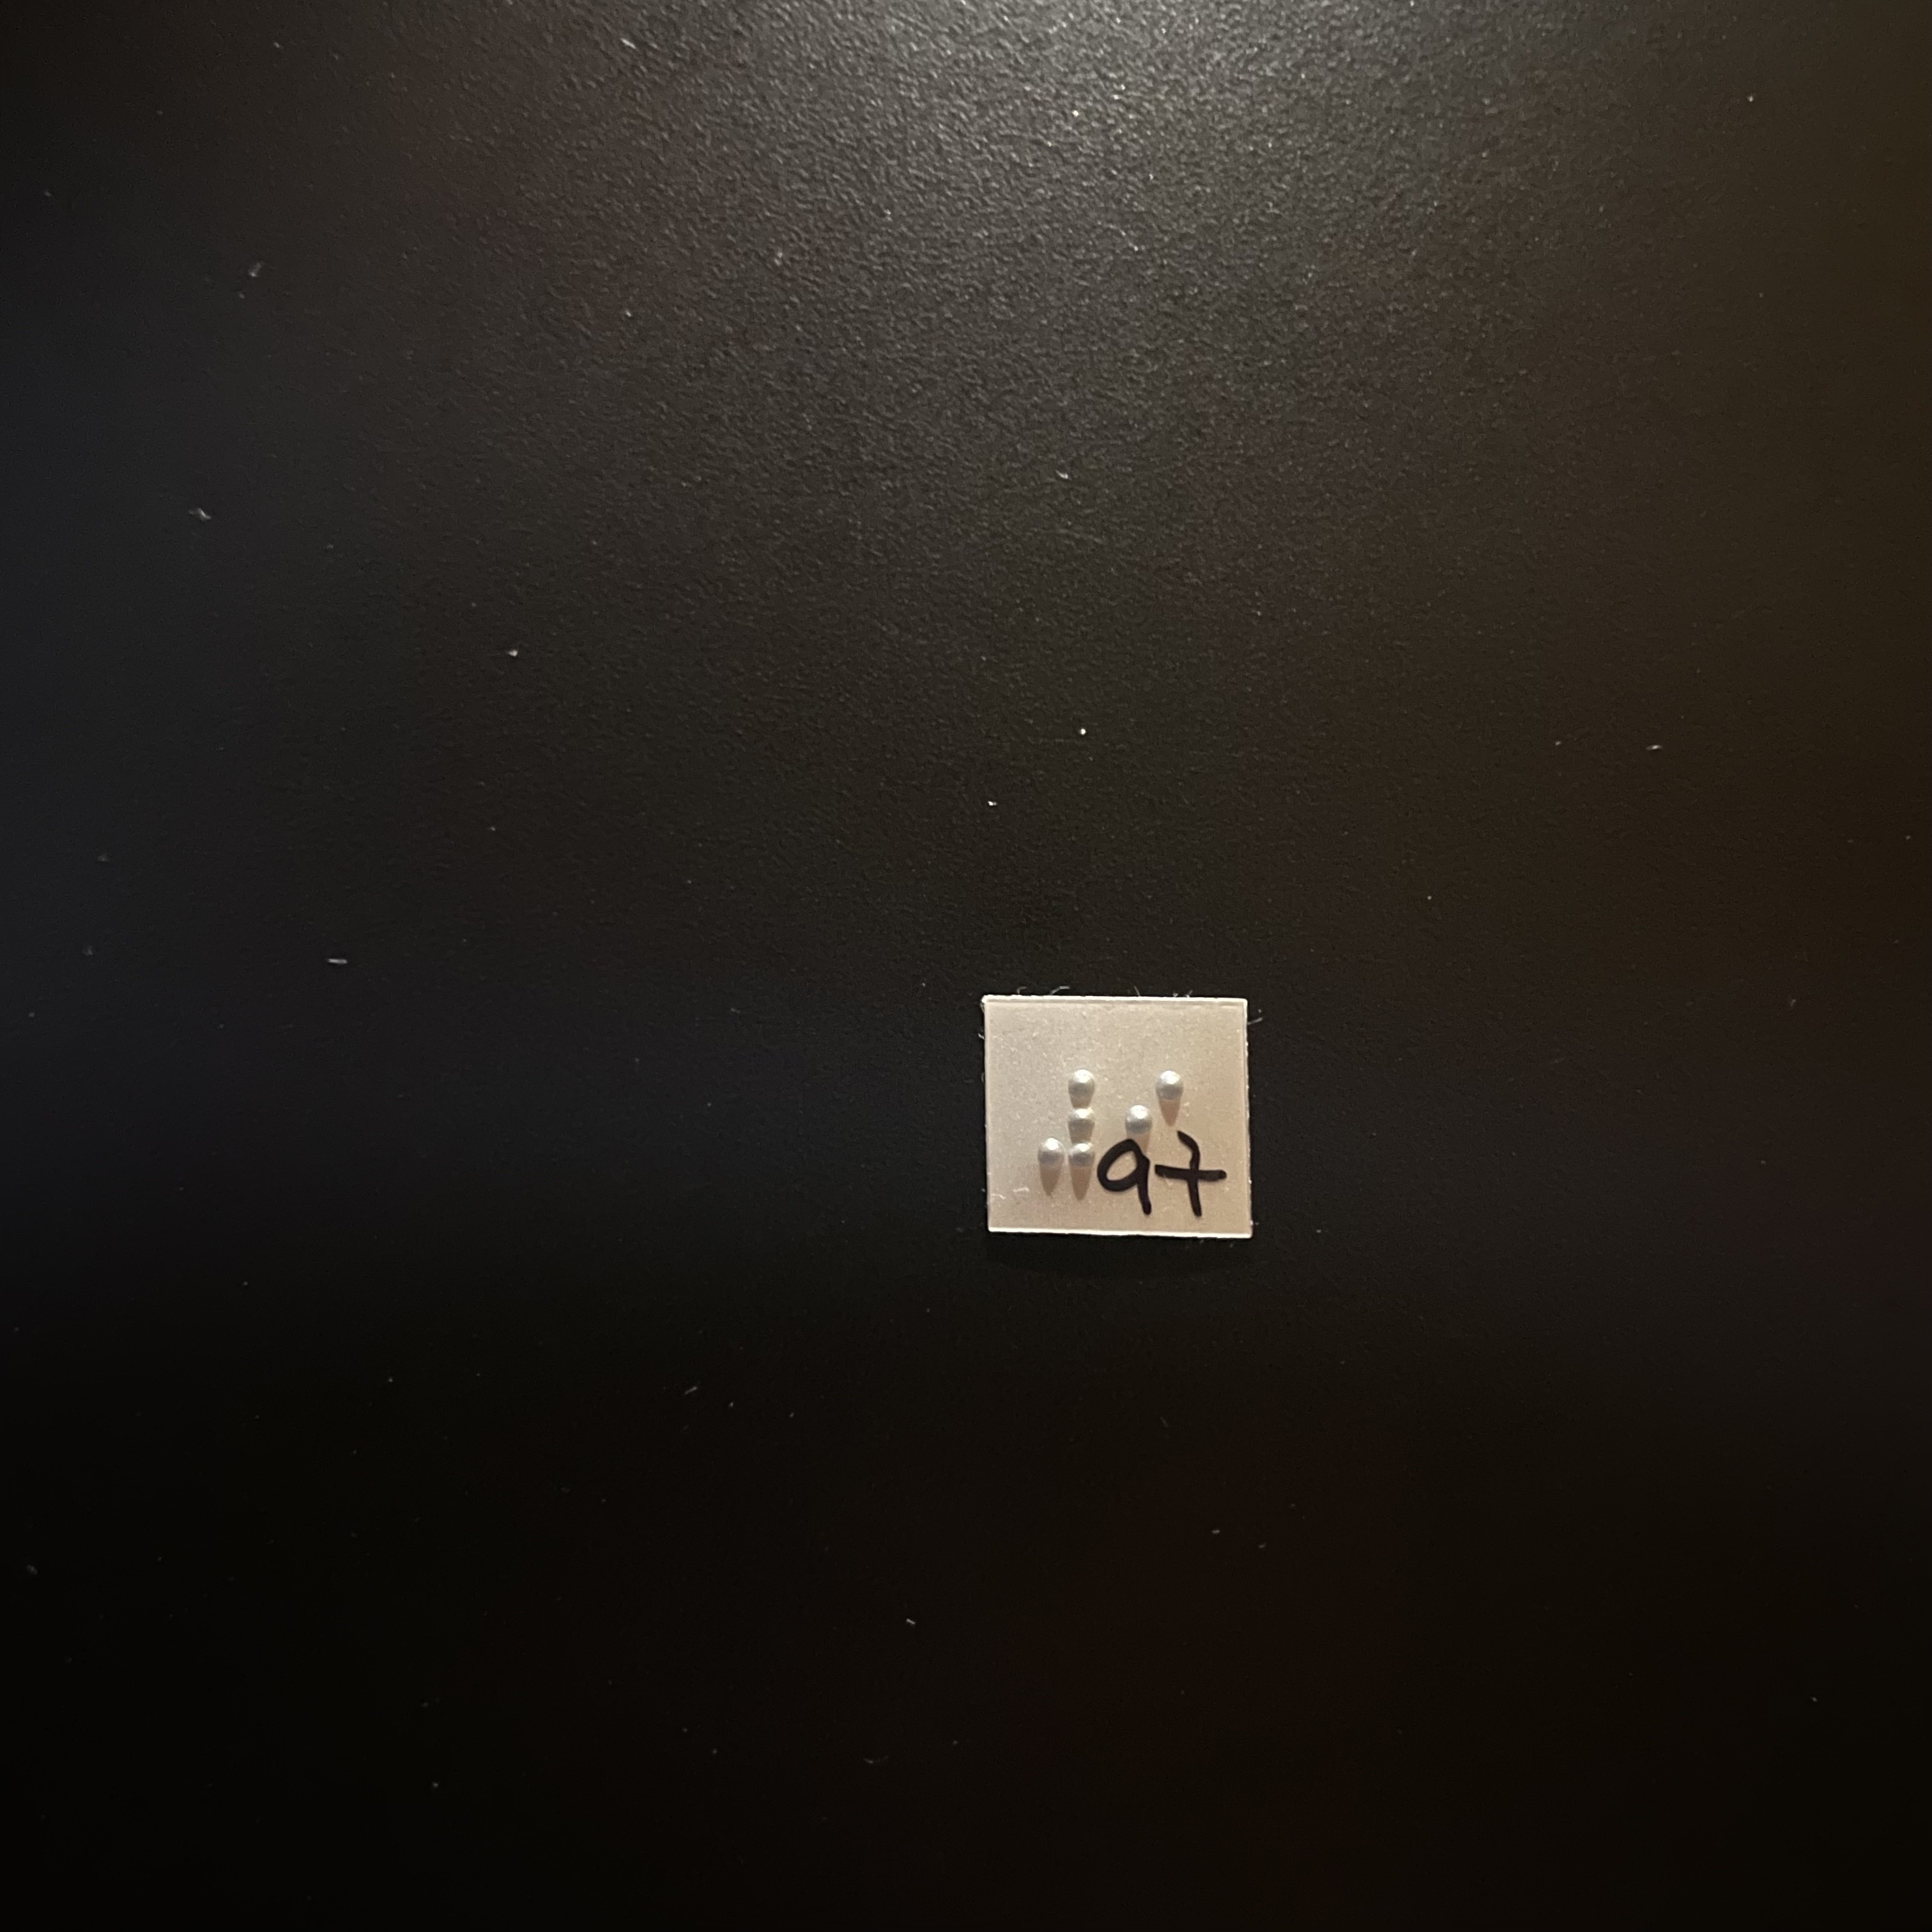#: (1029, 1066, 1117, 1196)
i: (1122, 1066, 1190, 1194)
